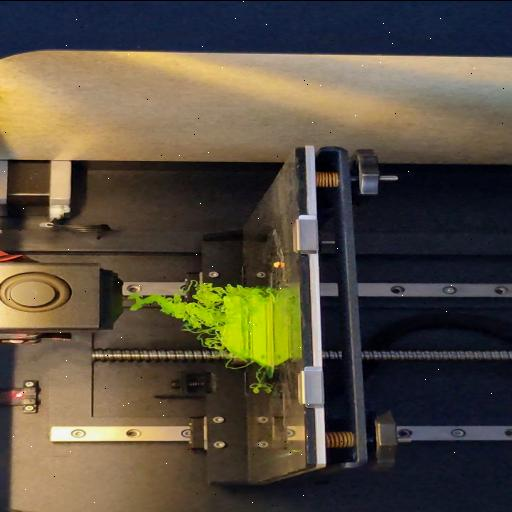spaghetti: (122, 281, 232, 351), (230, 284, 278, 296), (248, 366, 266, 393), (218, 358, 253, 368)
